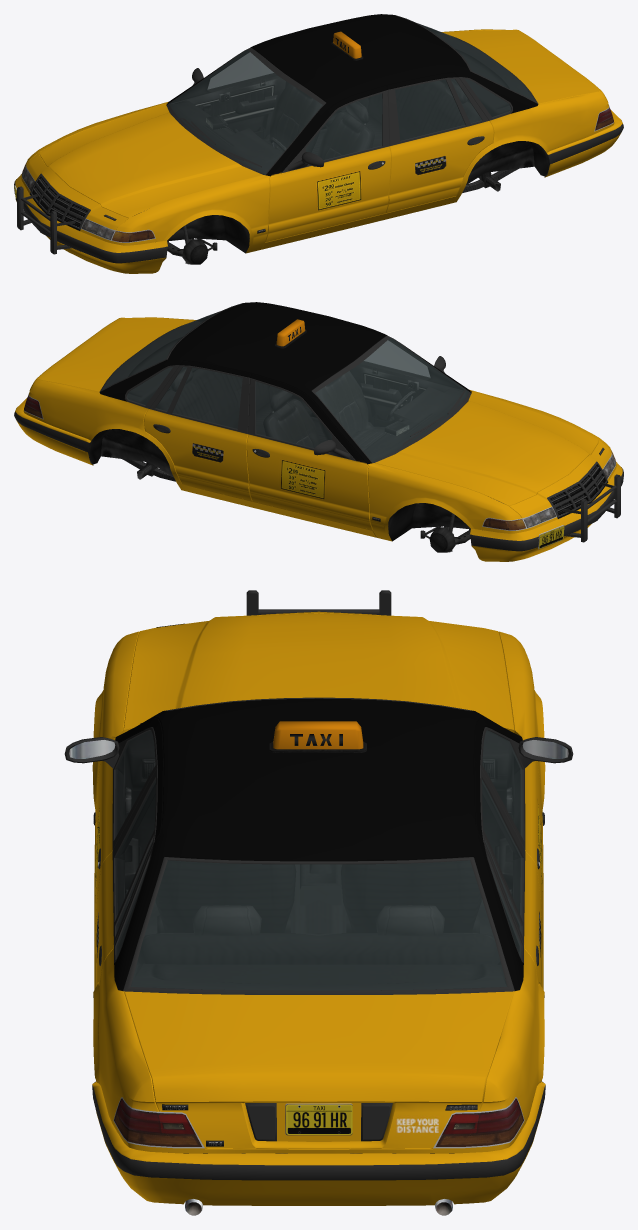
The model's file is chassis.glb.
3 renders of one model, top to bottom at view 1: azimuth 30°, elevation 25°; view 2: azimuth 150°, elevation 25°; view 3: azimuth 270°, elevation 25°, orthographic. The views are drawn at different scales.
Visible parts, largest first — view 1: Illinois90taxi_Body_Illinois90taxi_body_0, Illinois90taxi_Interior_GEN4DR_INTERIOR_0, Illinois90taxi_Hood_Illinois90taxi_body_0, Illinois90taxi_Bottom_UCB_BOTTOM_0, Illinois90taxi_Windshield_UCB_GLASS_CLEAN_0, Illinois90taxi_Body_Glass_UCB_GLASS_CLEAN_0, Illinois90taxi_Trunkdoor_Illinois90taxi_body_0, Illinois90taxi_Bumper_front_inner_UCB_BOTTOM_0, Illinois90taxi_Bumper_front_Illinois90taxi_body_0, Illinois90taxi_Rear_Glass_UCB_GLASS_CLEAN_0, Illinois90taxi_SUSPENSION_UCB_BOTTOM_0, Illinois90taxi_Bumper_rear_Illinois90taxi_body_0 (+4 smaller); view 2: Illinois90taxi_Body_Illinois90taxi_body_0, Illinois90taxi_Interior_GEN4DR_INTERIOR_0, Illinois90taxi_Hood_Illinois90taxi_body_0, Illinois90taxi_Bottom_UCB_BOTTOM_0, Illinois90taxi_Windshield_UCB_GLASS_CLEAN_0, Illinois90taxi_Body_Glass_UCB_GLASS_CLEAN_0, Illinois90taxi_Trunkdoor_Illinois90taxi_body_0, Illinois90taxi_Bumper_front_inner_UCB_BOTTOM_0, Illinois90taxi_Bumper_front_Illinois90taxi_body_0, Illinois90taxi_Rear_Glass_UCB_GLASS_CLEAN_0, Illinois90taxi_SUSPENSION_UCB_BOTTOM_0, Illinois90taxi_Bumper_rear_Illinois90taxi_body_0 (+5 smaller); view 3: Illinois90taxi_Body_Illinois90taxi_body_0, Illinois90taxi_Interior_GEN4DR_INTERIOR_0, Illinois90taxi_Trunkdoor_Illinois90taxi_body_0, Illinois90taxi_Rear_Glass_UCB_GLASS_CLEAN_0, Illinois90taxi_Hood_Illinois90taxi_body_0, Illinois90taxi_Bottom_UCB_BOTTOM_0, Illinois90taxi_Bumper_rear_Illinois90taxi_body_0, Illinois90taxi_Body_Glass_UCB_GLASS_CLEAN_0, Illinois90taxi_Bumper_rear_inner_UCB_BOTTOM_0, Illinois90taxi_Stoplights_glass_Riverside88_lights_0, Illinois90taxi_Taxi_Beacon_UCB_BOTTOM_0, Illinois90taxi_Trunkdoor_Misc_50UNMRKD90_Misc_0 (+3 smaller).
Boxes of the visible parts, box(x1,y1,x2,y2) form: Illinois90taxi_Body_Illinois90taxi_body_0: box(21, 14, 614, 253); Illinois90taxi_Interior_GEN4DR_INTERIOR_0: box(169, 25, 534, 173); Illinois90taxi_Hood_Illinois90taxi_body_0: box(39, 103, 262, 217); Illinois90taxi_Bottom_UCB_BOTTOM_0: box(21, 15, 613, 253); Illinois90taxi_Windshield_UCB_GLASS_CLEAN_0: box(169, 50, 322, 173); Illinois90taxi_Body_Glass_UCB_GLASS_CLEAN_0: box(208, 52, 510, 160); Illinois90taxi_Trunkdoor_Illinois90taxi_body_0: box(443, 29, 601, 103); Illinois90taxi_Bumper_front_inner_UCB_BOTTOM_0: box(14, 179, 167, 263); Illinois90taxi_Bumper_front_Illinois90taxi_body_0: box(15, 174, 167, 273); Illinois90taxi_Rear_Glass_UCB_GLASS_CLEAN_0: box(419, 24, 534, 100); Illinois90taxi_SUSPENSION_UCB_BOTTOM_0: box(167, 168, 518, 264); Illinois90taxi_Bumper_rear_Illinois90taxi_body_0: box(545, 110, 622, 177); Illinois90taxi_Body_Illinois90taxi_body_0: box(23, 302, 616, 541); Illinois90taxi_Interior_GEN4DR_INTERIOR_0: box(103, 313, 468, 461); Illinois90taxi_Hood_Illinois90taxi_body_0: box(375, 391, 598, 505); Illinois90taxi_Bottom_UCB_BOTTOM_0: box(24, 303, 616, 541); Illinois90taxi_Windshield_UCB_GLASS_CLEAN_0: box(315, 338, 468, 461); Illinois90taxi_Body_Glass_UCB_GLASS_CLEAN_0: box(127, 340, 429, 448); Illinois90taxi_Trunkdoor_Illinois90taxi_body_0: box(36, 317, 194, 391); Illinois90taxi_Bumper_front_inner_UCB_BOTTOM_0: box(470, 467, 623, 551); Illinois90taxi_Bumper_front_Illinois90taxi_body_0: box(470, 462, 622, 561); Illinois90taxi_Rear_Glass_UCB_GLASS_CLEAN_0: box(103, 312, 218, 388); Illinois90taxi_SUSPENSION_UCB_BOTTOM_0: box(122, 459, 470, 552); Illinois90taxi_Bumper_rear_Illinois90taxi_body_0: box(15, 398, 92, 465); Illinois90taxi_Body_Illinois90taxi_body_0: box(92, 611, 545, 1153); Illinois90taxi_Interior_GEN4DR_INTERIOR_0: box(117, 731, 520, 990); Illinois90taxi_Trunkdoor_Illinois90taxi_body_0: box(124, 991, 513, 1148); Illinois90taxi_Rear_Glass_UCB_GLASS_CLEAN_0: box(131, 860, 506, 990); Illinois90taxi_Hood_Illinois90taxi_body_0: box(123, 613, 514, 732); Illinois90taxi_Bottom_UCB_BOTTOM_0: box(64, 611, 573, 1215); Illinois90taxi_Bumper_rear_Illinois90taxi_body_0: box(92, 1081, 545, 1205); Illinois90taxi_Body_Glass_UCB_GLASS_CLEAN_0: box(115, 730, 522, 957); Illinois90taxi_Bumper_rear_inner_UCB_BOTTOM_0: box(92, 1085, 545, 1180); Illinois90taxi_Stoplights_glass_Riverside88_lights_0: box(116, 1098, 521, 1134); Illinois90taxi_Taxi_Beacon_UCB_BOTTOM_0: box(269, 721, 366, 752); Illinois90taxi_Trunkdoor_Misc_50UNMRKD90_Misc_0: box(162, 1103, 477, 1146).
Size of the model in its own units: 5.21 by 1.37 by 2.09.
6 materials, 6 textured.
